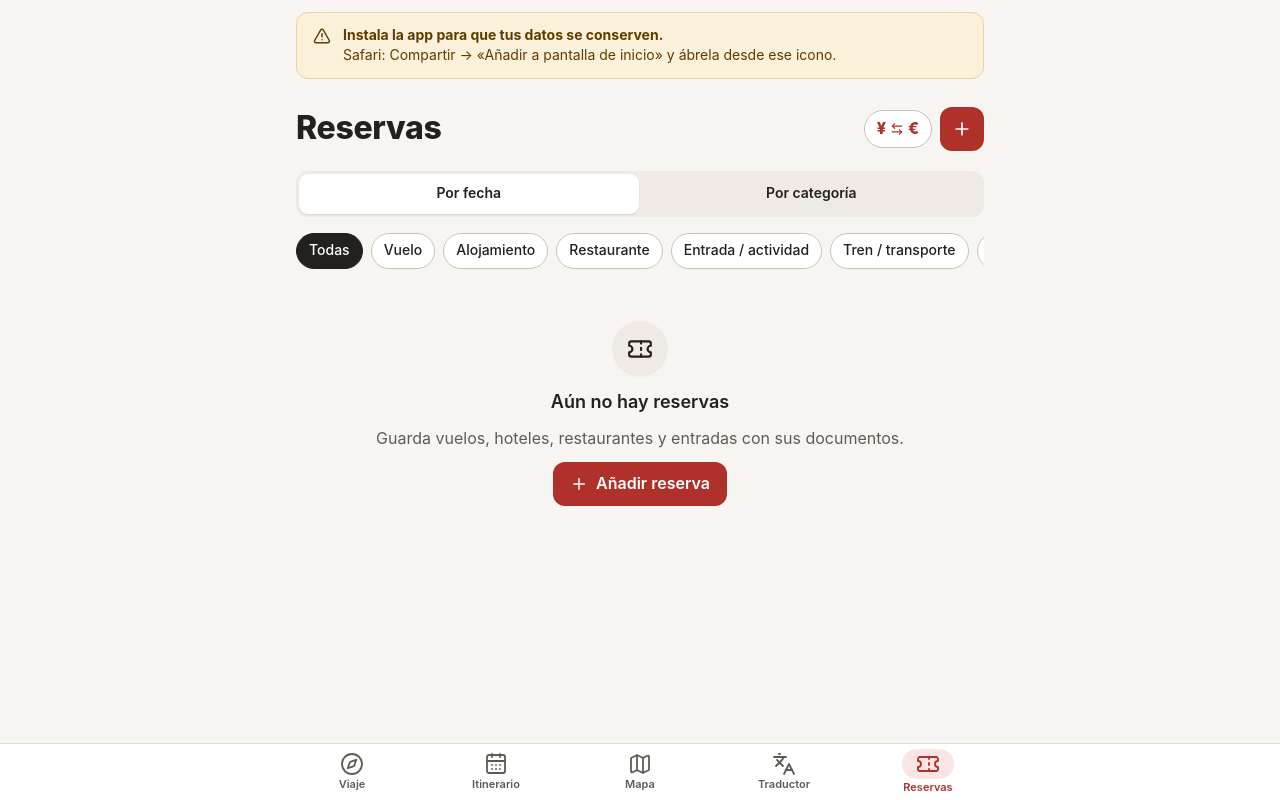
Scenario: itinerario, día de vuelo y calendario › el botón ¥ ⇄ € del menú abre el conversor en cualquier pantalla
This screenshot has width=1280, height=800.
Click the button named "Abrir el conversor de yenes y euros" at (898, 129), box top-left (864, 110), bottom-right (932, 148)
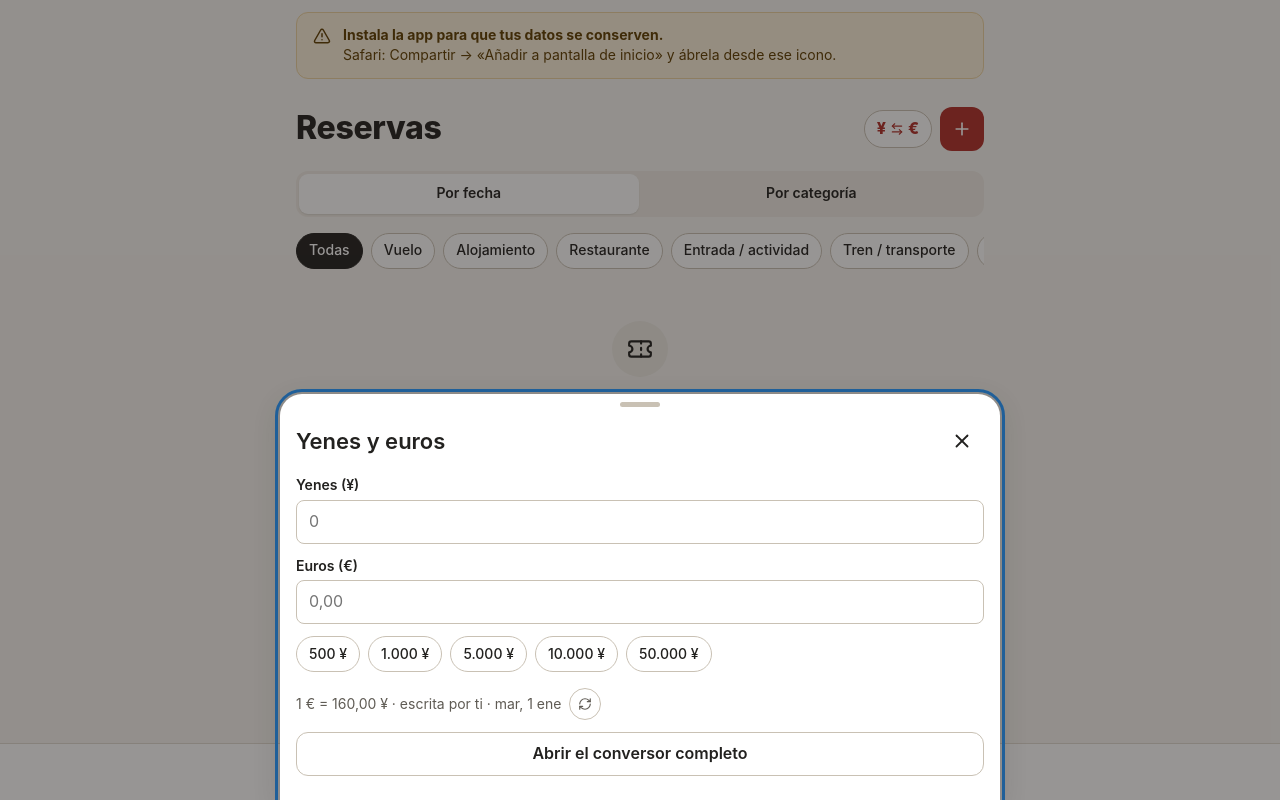
Type "16000" into the field labelled "Yenes (¥)" at (640, 522), box top-left (296, 500), bottom-right (984, 544)
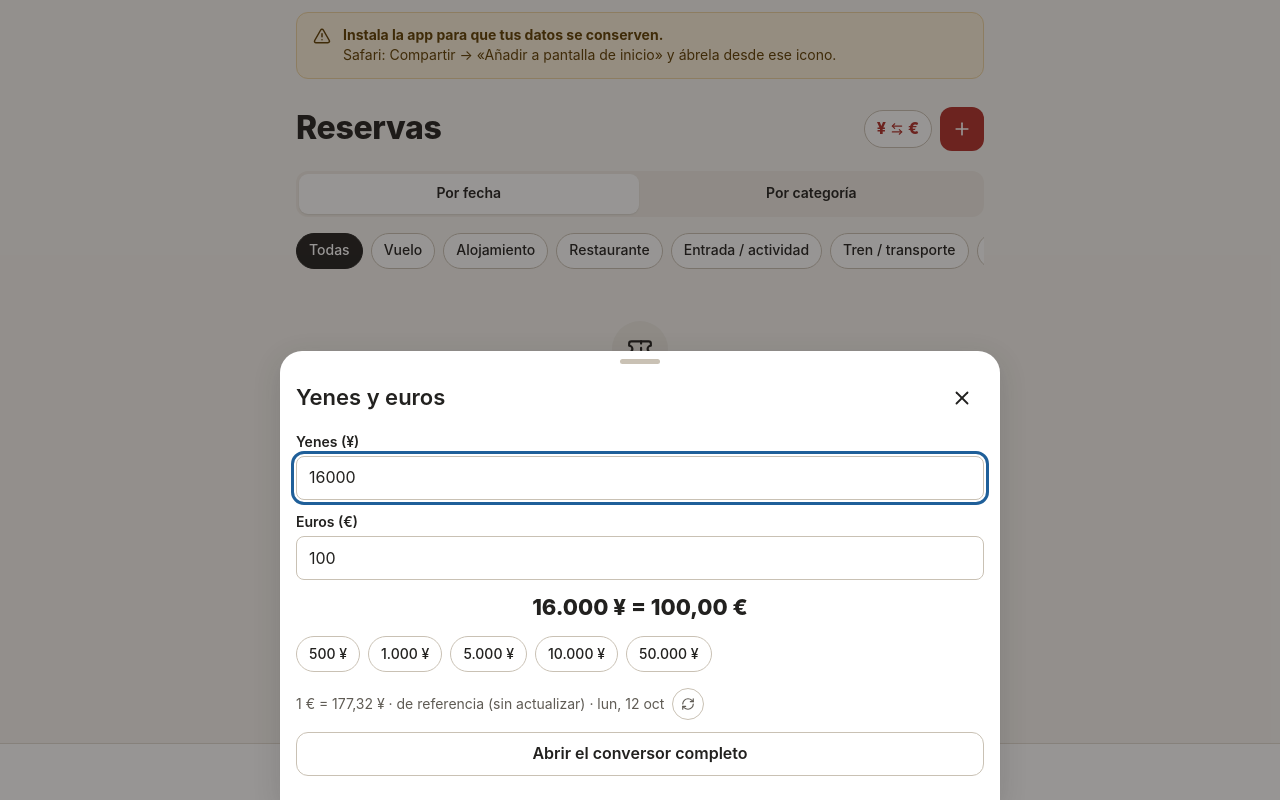
Expected: the field labelled "Euros (€)" holds "100", top-left (296, 536), bottom-right (984, 580)
